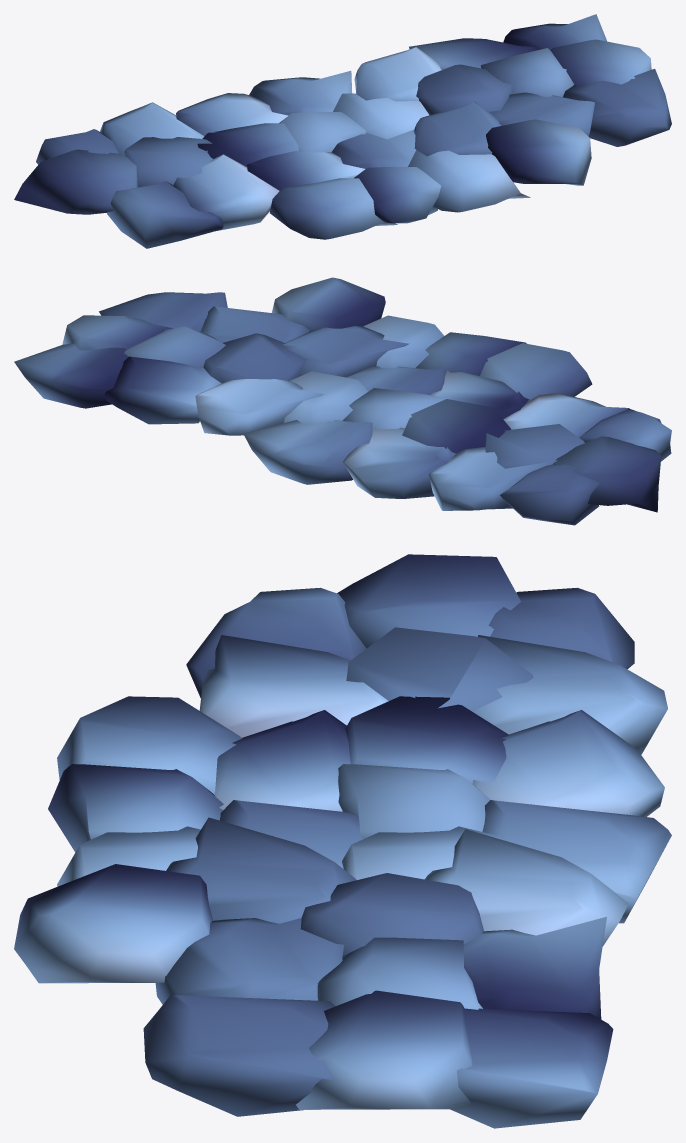
File: Stones_Groud_Blue.fbx
3 renders of one model, top to bottom at view 1: azimuth 30°, elevation 25°; view 2: azimuth 150°, elevation 25°; view 3: azimuth 270°, elevation 25°, orthographic. The views are drawn at different scales.
Visible parts, largest first — view 1: Stones_Groud_Blue; view 2: Stones_Groud_Blue; view 3: Stones_Groud_Blue.
Boxes of the visible parts, <box> form: Stones_Groud_Blue: <box>14,14,671,248</box>; Stones_Groud_Blue: <box>14,277,671,525</box>; Stones_Groud_Blue: <box>14,554,671,1128</box>.
Bounding box in the file's own units: 40.48 × 3.51 × 20.97.
